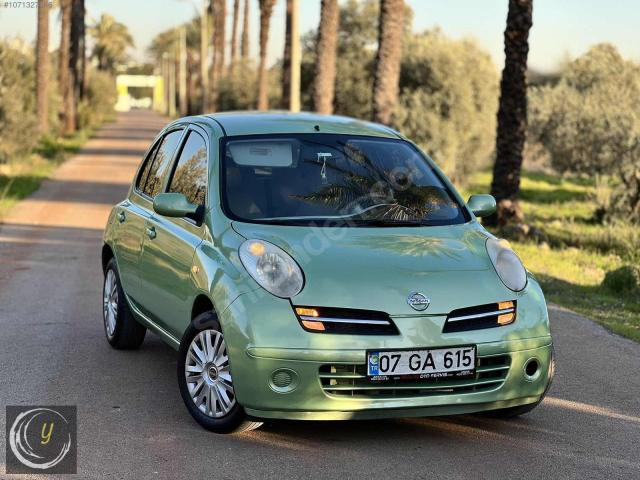plaka: (368, 346, 476, 380)
